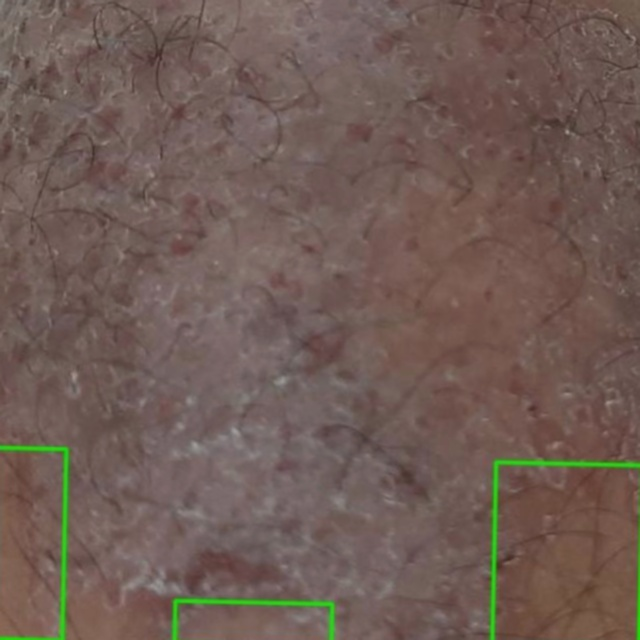Eczema: (492, 462, 639, 639), (0, 447, 66, 639), (174, 600, 332, 639)
